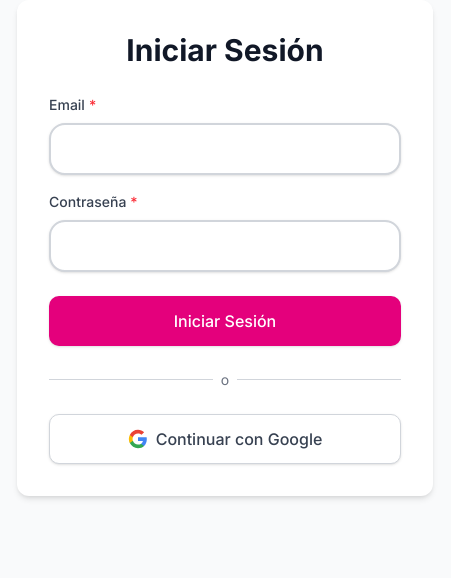
Test: LoginForm Integration Tests › Form Rendering and Validation › should clear validation errors when user types
The width and height of the screenshot is (451, 578).
Click the button "Iniciar Sesión" at (225, 320), box top-left (49, 296), bottom-right (401, 346)
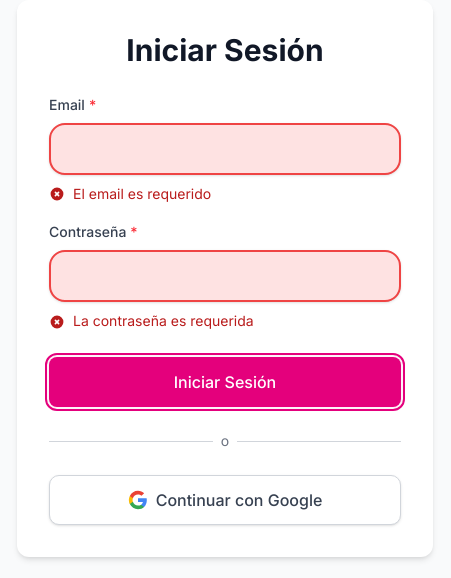
Expected: the text "El email es requerido" is shown, top-left (73, 182), bottom-right (211, 205)
Type "test@example.com" into the field labelled "Email*" at (225, 148), box top-left (49, 122), bottom-right (401, 174)
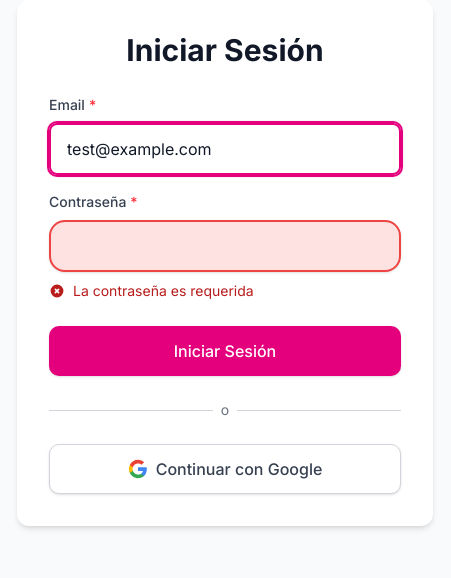
Expected: the text "El email es requerido" is gone
